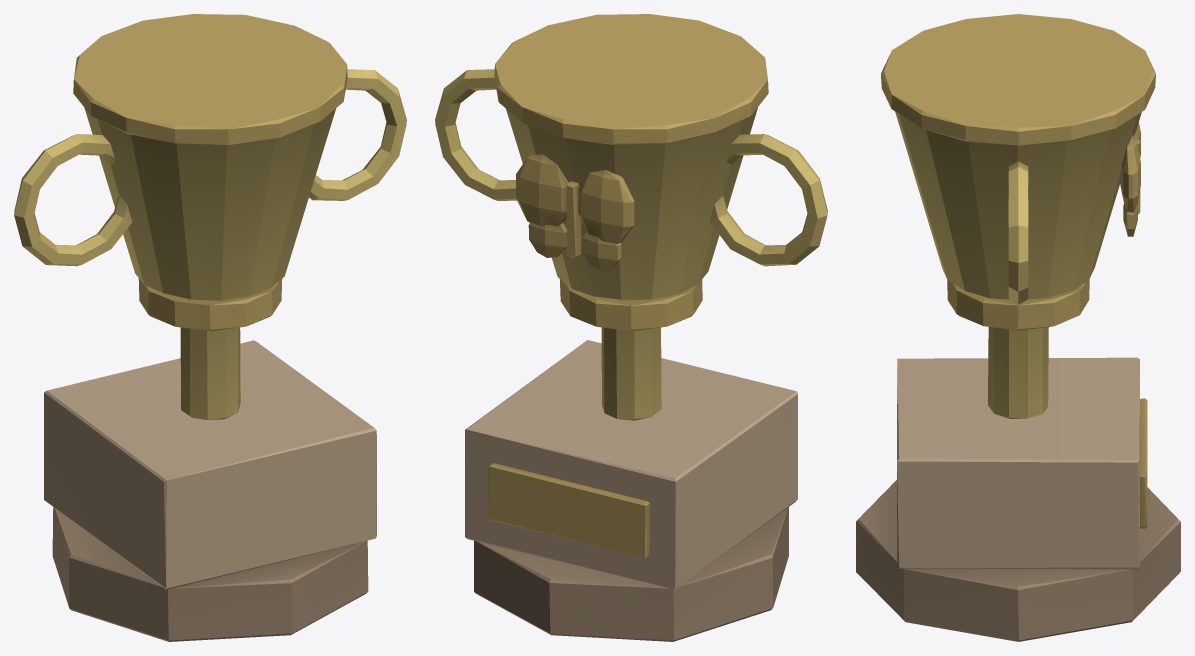
File: event_trophy_bug_gold_low.glb
3 renders of one model, left to right at view 1: azimuth 30°, elevation 25°; view 2: azimuth 150°, elevation 25°; view 3: azimuth 270°, elevation 25°, orthographic.
Size of the model in its own units: 0.4423 by 0.545 by 0.3186.
